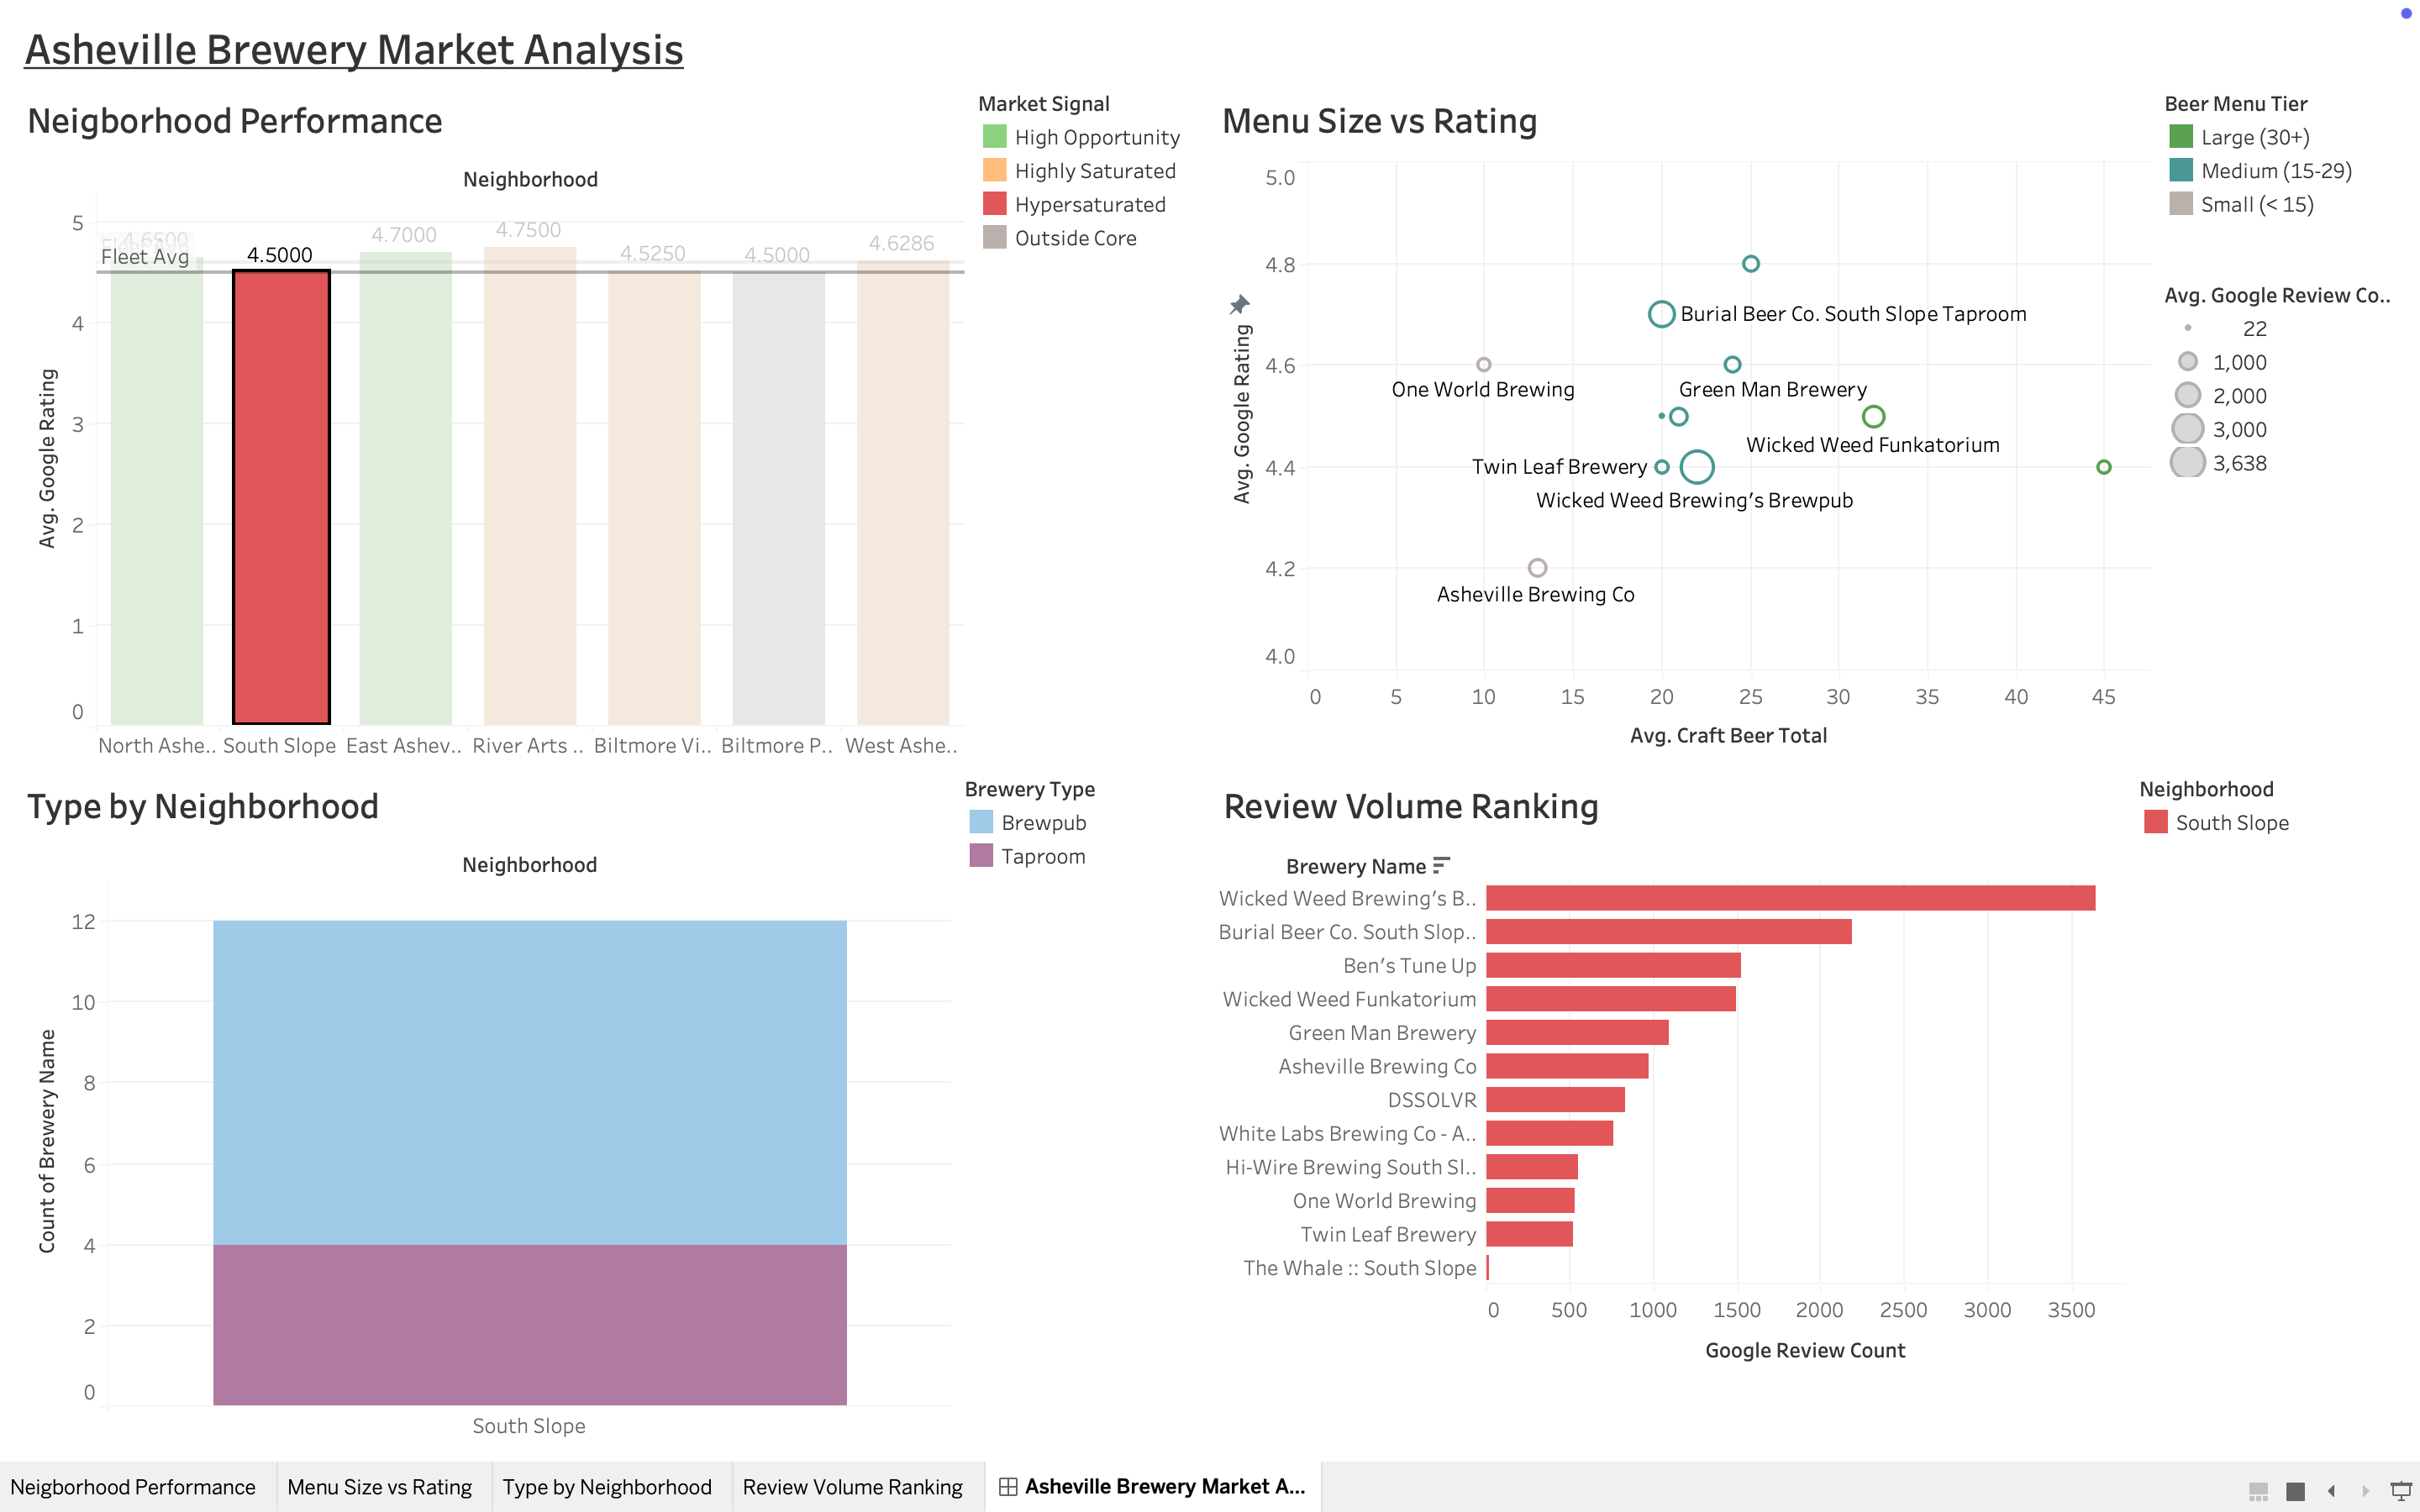

What the dashboard file says about the page in this screenshot:
{"tool":"tableau","page":{"name":"Asheville Brewery Market Analysis","canvas":[1000,1000],"units":"permille","ordinal":0},"visuals":[{"type":"title","box":[16.1,11.8,967.8,60.5]},{"type":"worksheet","title":"Neigborhood Performance","mark":"Automatic","rows":["google_rating"],"cols":["neighborhood"],"box":[16.1,72.3,199.7,459.9]},{"type":"legend","title":"Neigborhood Performance","param":"[federated.0e7pakv050v0t112rgxxq1gu1ju3].[none:market_signal:nk]","box":[215.8,72.3,283.7,156.3]},{"type":"worksheet","title":"Menu Size vs Rating","mark":"Automatic","rows":["google_rating"],"cols":["craft_beer_total"],"box":[499.5,72.3,383.8,459.9]},{"type":"legend","title":"Menu Size vs Rating","param":"[federated.0e7pakv050v0t112rgxxq1gu1ju3].[none:beer_menu_tier:nk]","box":[883.3,72.3,100.6,128.5]},{"type":"legend","title":"Menu Size vs Rating","param":"[federated.0e7pakv050v0t112rgxxq1gu1ju3].[avg:google_review_count:qk]","box":[883.3,200.7,100.6,331.4]},{"type":"worksheet","title":"Type by Neighborhood","mark":"Automatic","rows":["brewery_name"],"cols":["neighborhood"],"box":[16.1,532.2,382.1,456]},{"type":"legend","title":"Type by Neighborhood","param":"[federated.0e7pakv050v0t112rgxxq1gu1ju3].[none:brewery_type:nk]","box":[398.2,532.2,101.8,456]},{"type":"worksheet","title":"Review Volume Ranking","mark":"Automatic","rows":["brewery_name"],"cols":["google_review_count"],"box":[500,532.2,372.9,456]},{"type":"legend","title":"Review Volume Ranking","param":"[federated.0e7pakv050v0t112rgxxq1gu1ju3].[none:neighborhood:nk]","box":[872.9,532.2,111,456]}]}

Visuals, with their boxes on the dashboard's canvas, which has no fixed pixel size, in thousandths of its width and height (x1, y1, x2, y2). These are canvas units, not pixel positions in the 2420x1512 screenshot, which may show the page scaled, cropped or inside an application window:
title: (16,12,984,72)
"Neigborhood Performance" worksheet: (16,72,216,532)
"Neigborhood Performance" legend: (216,72,500,229)
"Menu Size vs Rating" worksheet: (500,72,883,532)
"Menu Size vs Rating" legend: (883,72,984,201)
"Menu Size vs Rating" legend: (883,201,984,532)
"Type by Neighborhood" worksheet: (16,532,398,988)
"Type by Neighborhood" legend: (398,532,500,988)
"Review Volume Ranking" worksheet: (500,532,873,988)
"Review Volume Ranking" legend: (873,532,984,988)
